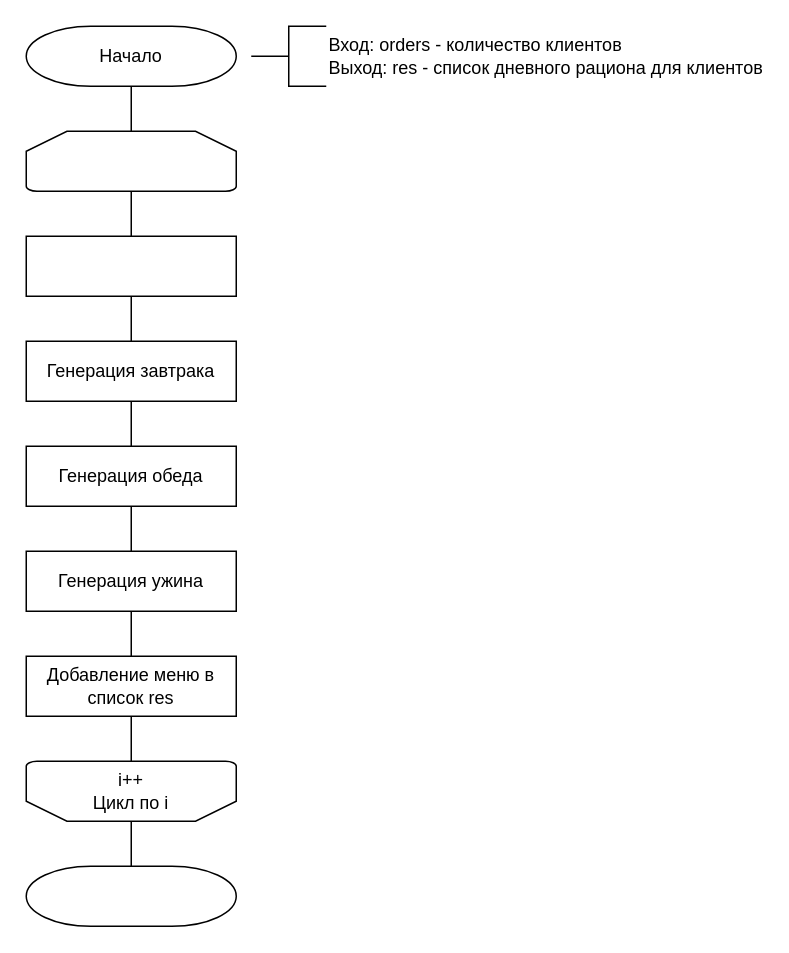
Some shapes in this 789 by 953 pixel diagram are drawn without their labels. Here are the shapes that lost their labels. From the top down, the centre of each, then its label:
[130,160]: i = 0, i < orders Цикл по i
[130,265]: Создание заявки
[130,895]: Конец
